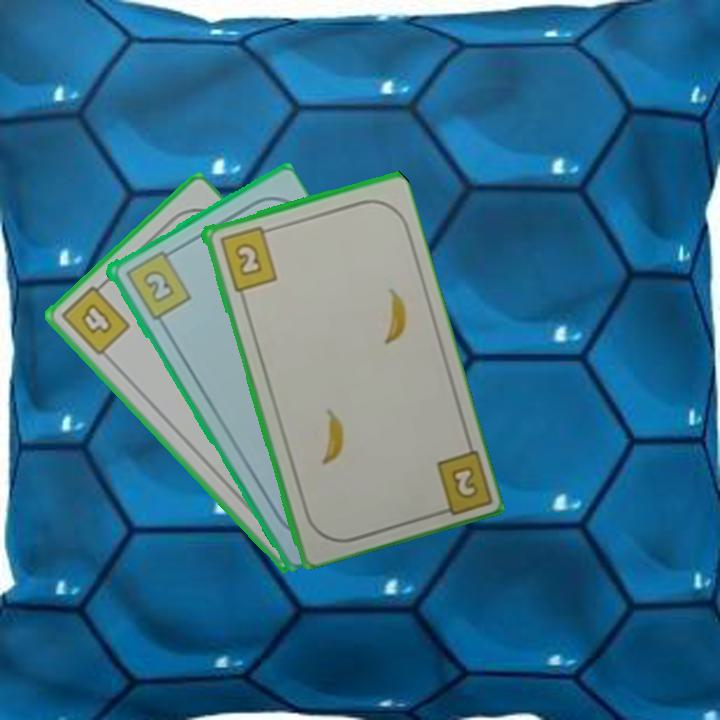2b: (120, 245, 194, 323), (428, 444, 492, 519), (215, 223, 280, 294)
4b: (57, 277, 133, 359)
